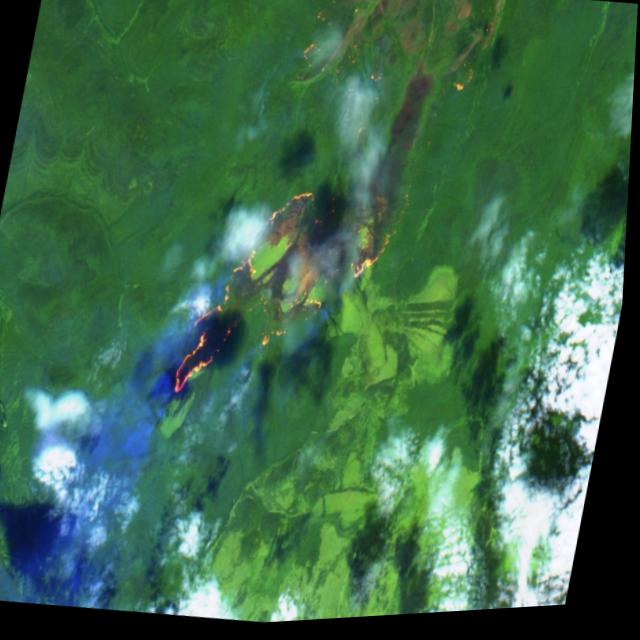fire: (171, 161, 420, 429)
